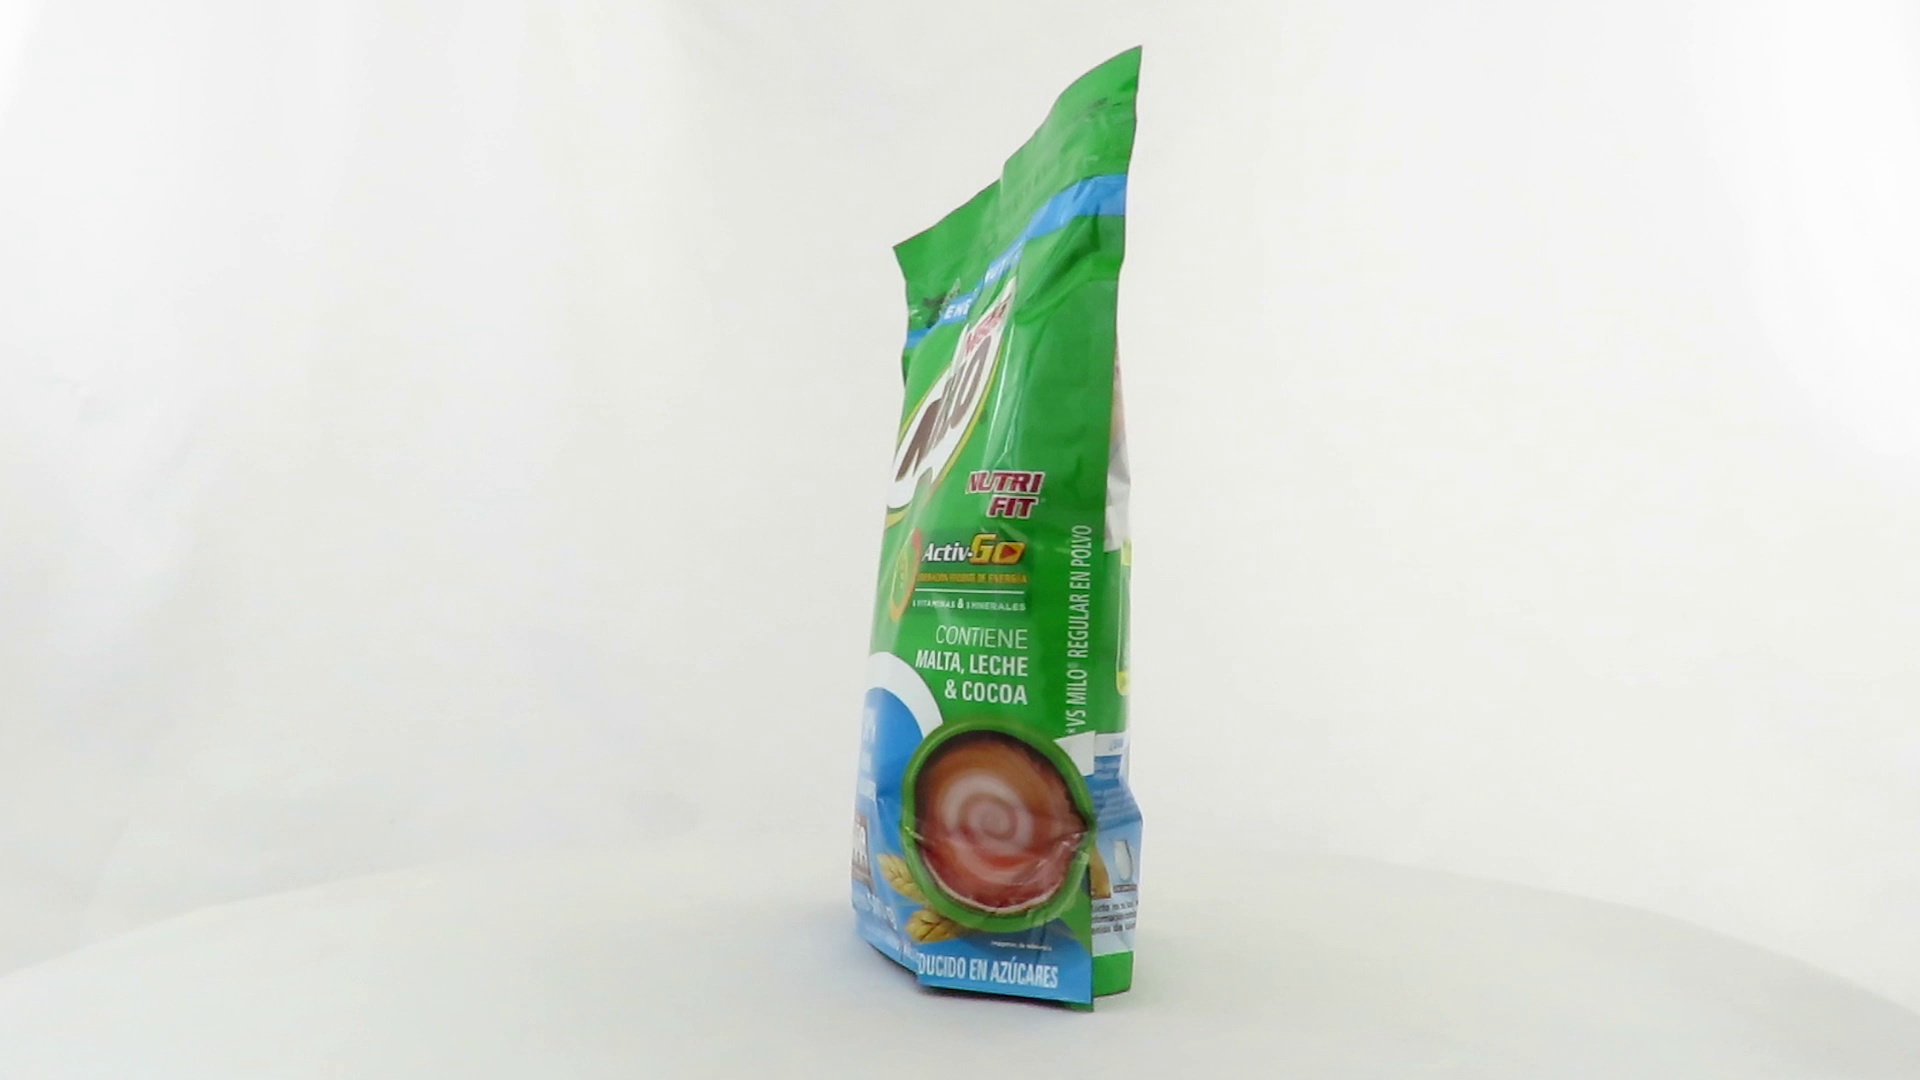COL0170205DYP50000: (844, 40, 1149, 1021)
